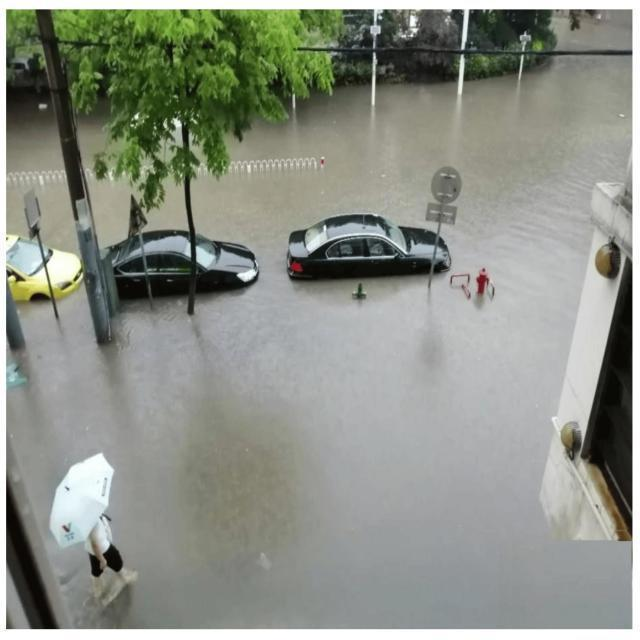water: (9, 279, 627, 628), (192, 57, 625, 305), (7, 90, 77, 253), (78, 118, 131, 245), (141, 170, 189, 233)
